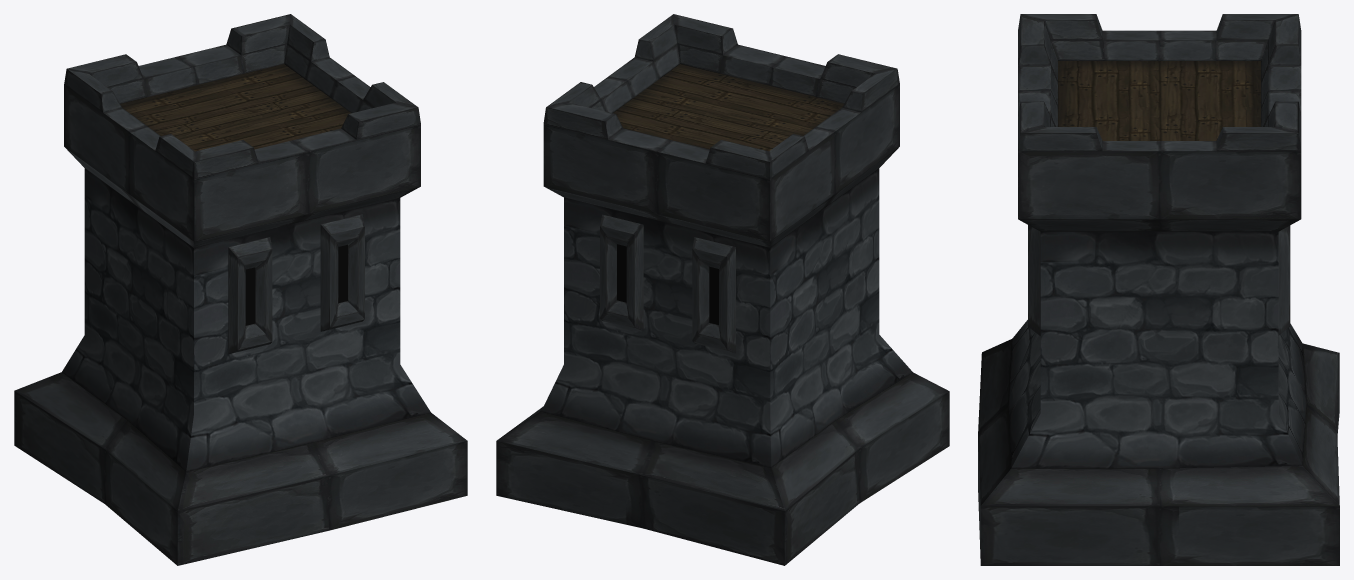
Rendered from cp_tower2.FBX.
3 renders of one model, left to right at view 1: azimuth 30°, elevation 25°; view 2: azimuth 150°, elevation 25°; view 3: azimuth 270°, elevation 25°, orthographic. The views are drawn at different scales.
Visible parts, largest first — view 1: tower2; view 2: tower2; view 3: tower2.
Boxes of the visible parts, <box> form: tower2: <box>14,14,467,565</box>; tower2: <box>496,14,949,565</box>; tower2: <box>978,14,1339,565</box>.
Bounding box in the file's own units: 41.87 × 52.83 × 41.59.
